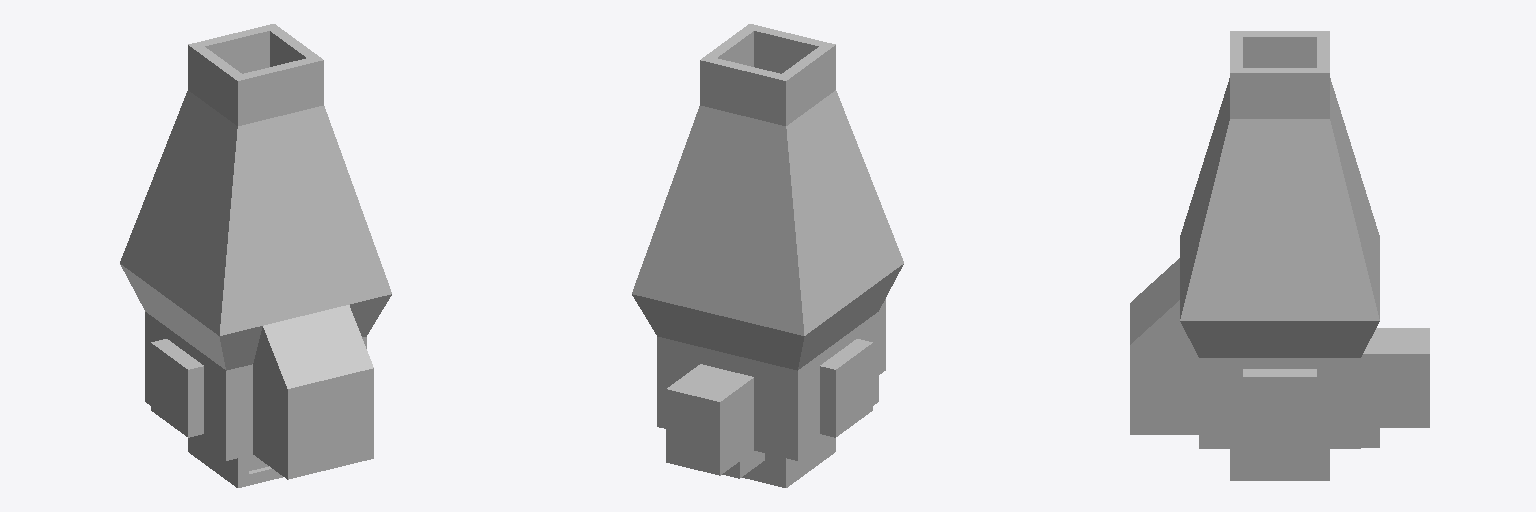
The model's file is blastfurnace_advanced.obj.
3 renders of one model, left to right at view 1: azimuth 30°, elevation 25°; view 2: azimuth 150°, elevation 25°; view 3: azimuth 270°, elevation 25°, orthographic.
Parts seen in each view (by area): view 1: furnace, preheater; view 2: furnace, preheater; view 3: furnace, preheater, preheater_active.
Part boxes in pixels (x1,y1,x2,y2): furnace: (120,24,391,479); preheater: (188,437,282,487); furnace: (632,24,903,475); preheater: (722,437,835,487); furnace: (1130,31,1429,448); preheater: (1230,428,1379,480); preheater_active: (1261,449,1298,480).
Bounding box in the file's own units: 2 × 4.5 × 3.